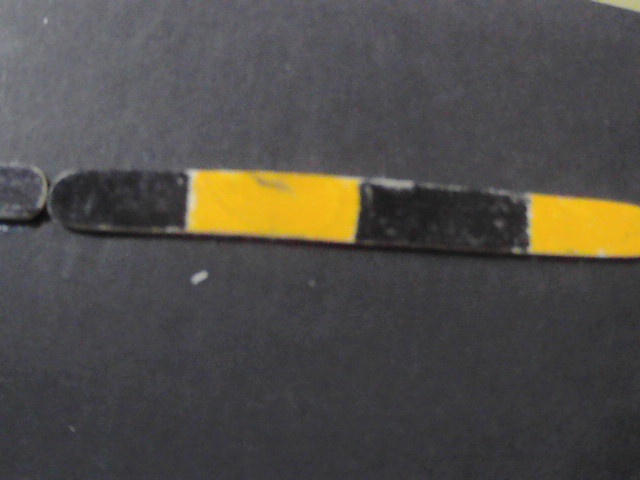black_strip: (373, 179, 522, 250), (55, 171, 179, 237), (1, 165, 35, 216)
mixed_lane: (0, 164, 635, 255)
yellow_strip: (188, 162, 371, 240), (527, 190, 636, 258)
